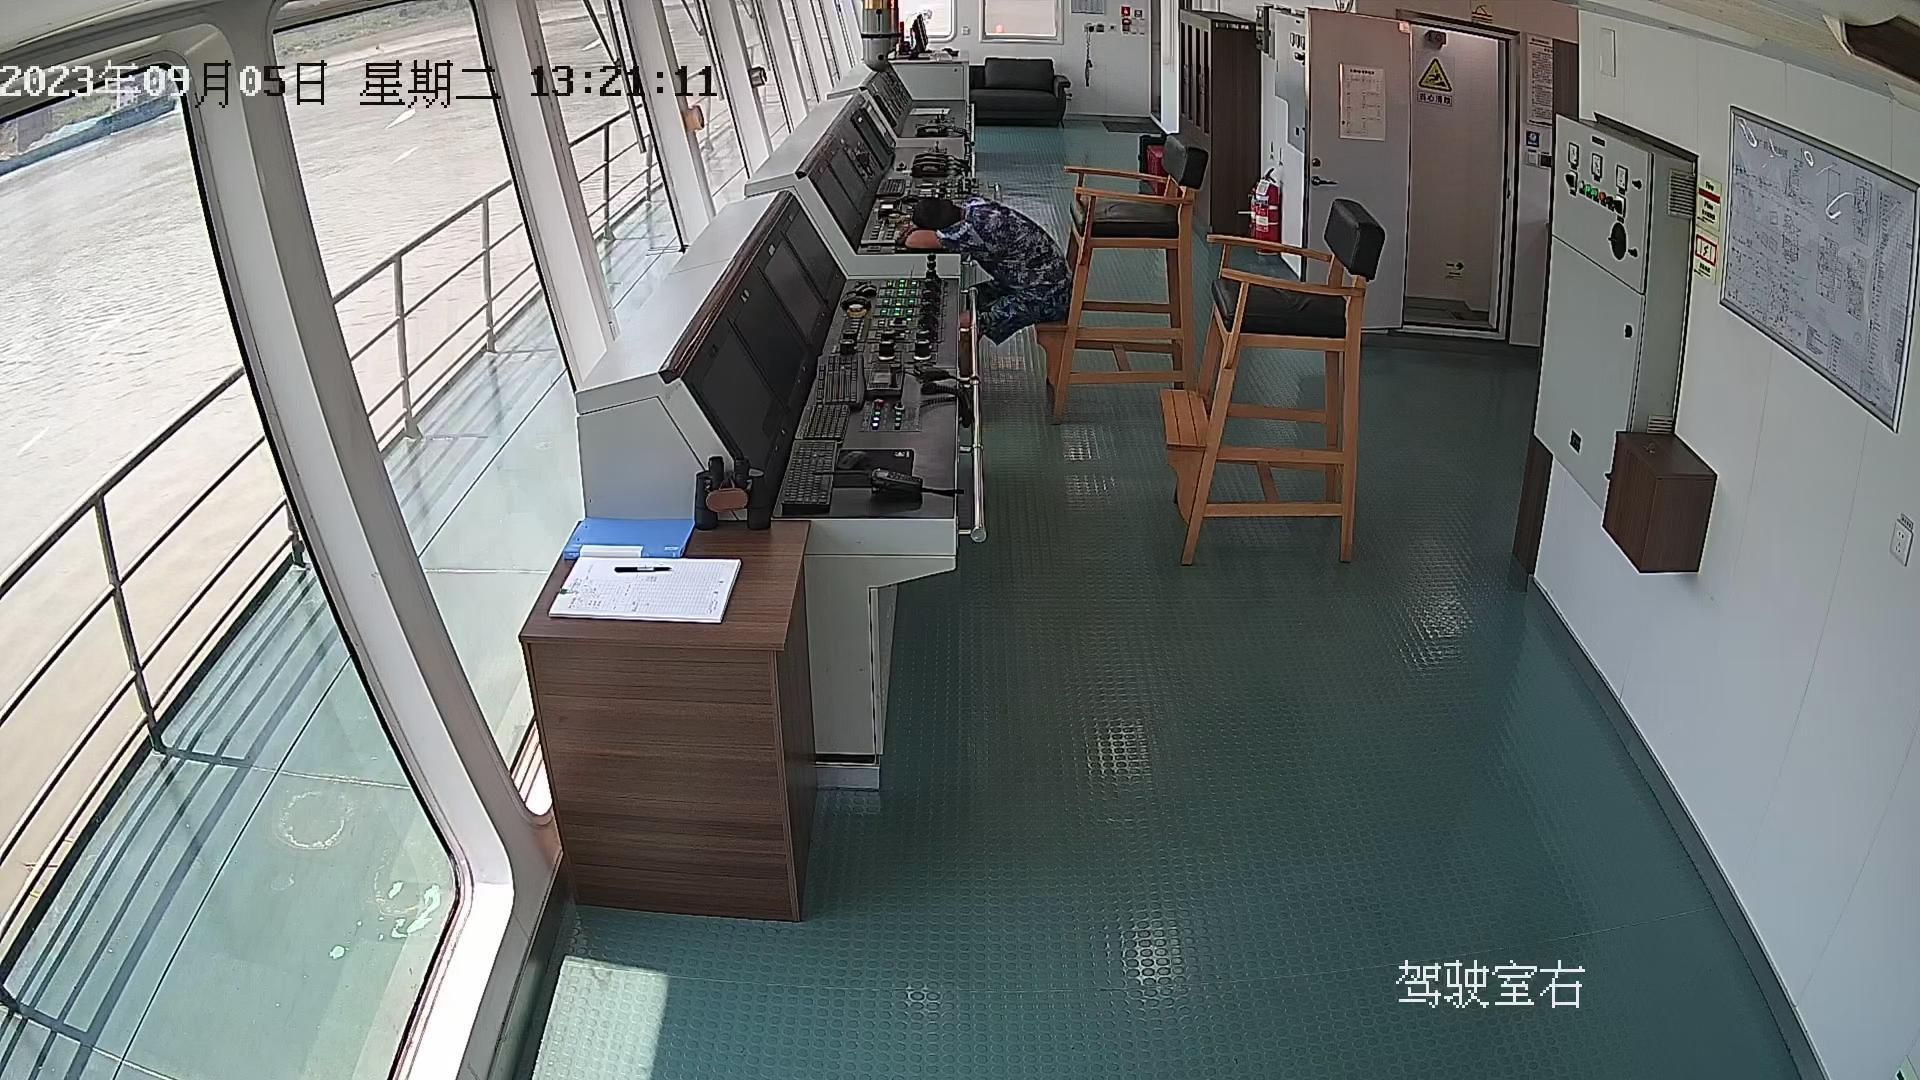sleep: (899, 186, 1065, 332)
